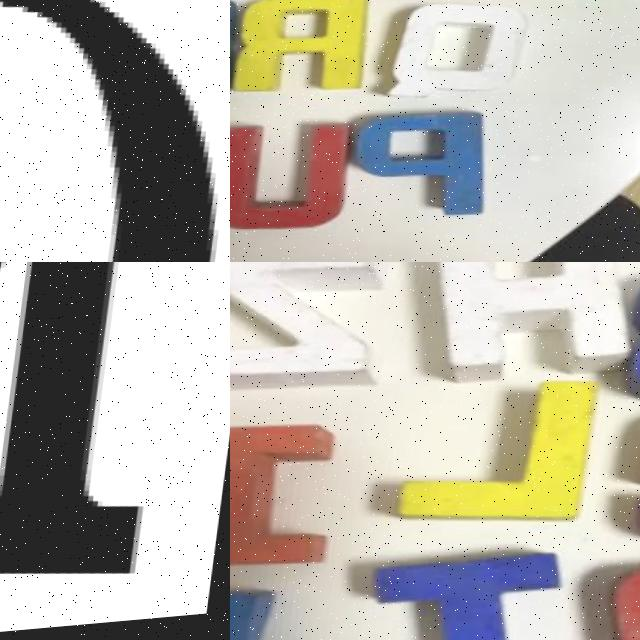H: (417, 262, 635, 400)
J: (230, 573, 387, 640)
L: (394, 372, 604, 544)
N: (0, 262, 230, 628)
P: (352, 107, 499, 224)
Q: (387, 0, 533, 116)
R: (230, 0, 379, 106)
T: (357, 542, 575, 640)
U: (230, 113, 360, 245)
Z: (230, 262, 401, 403)
